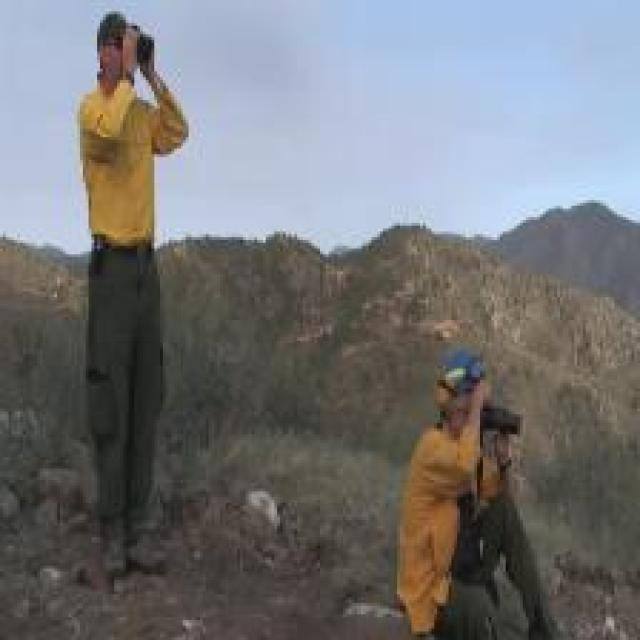other: (48, 65, 205, 253), (387, 408, 488, 601)
